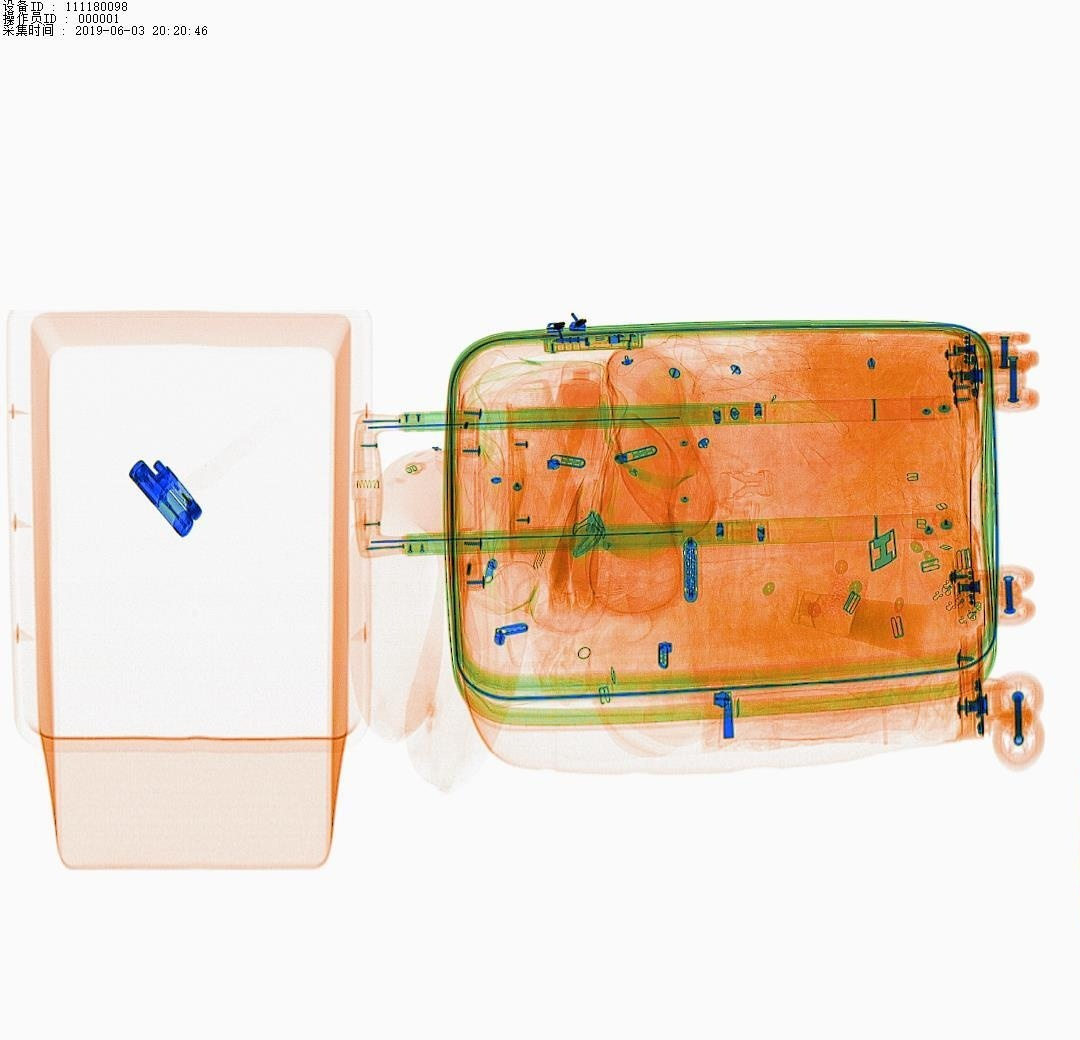NonmetallicFire: (128, 453, 218, 552)
